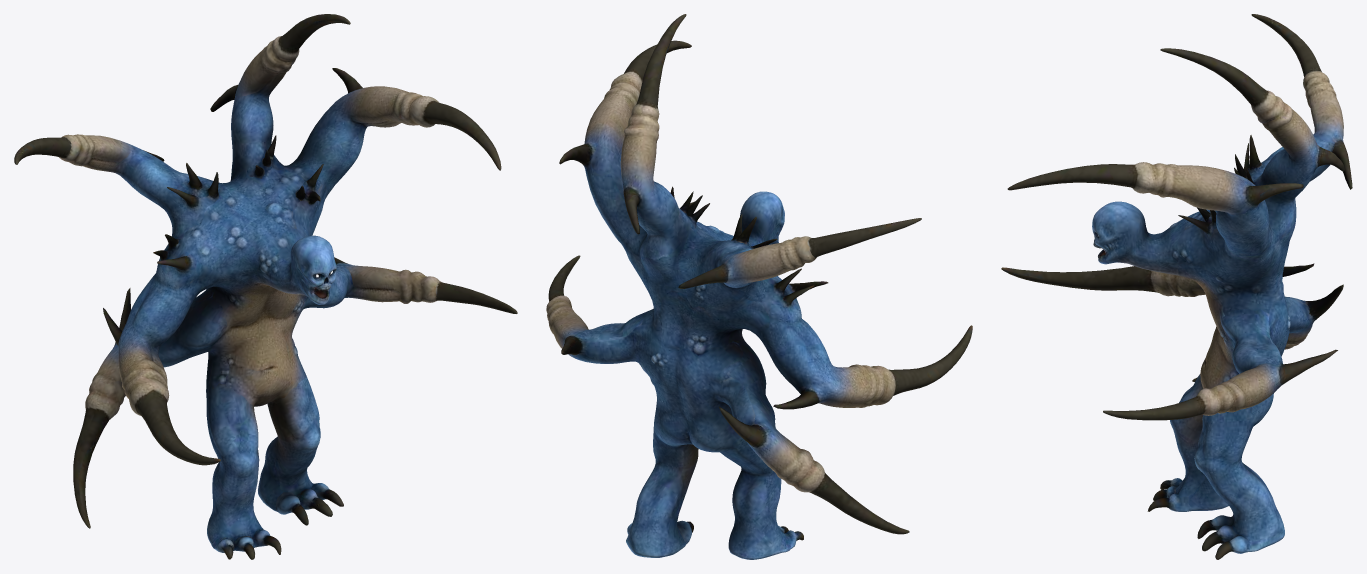
Rendered from MZ4250 - Starspawn Mangler.glb.
The picture shows the model from 3 angles, left to right: view 1: azimuth 30°, elevation 25°; view 2: azimuth 150°, elevation 25°; view 3: azimuth 270°, elevation 25°; orthographic projection. The views are drawn at different scales.
Visible parts, largest first — view 1: Star Spawn Mangler.001; view 2: Star Spawn Mangler.001; view 3: Star Spawn Mangler.001.
Boxes of the visible parts, bbox=[...] form: Star Spawn Mangler.001: bbox=[14, 14, 517, 559]; Star Spawn Mangler.001: bbox=[546, 14, 972, 559]; Star Spawn Mangler.001: bbox=[1001, 14, 1352, 559].
Bounding box in the file's own units: 56.64 × 64.54 × 40.91.
Materials: 1 (1 with a texture image).
